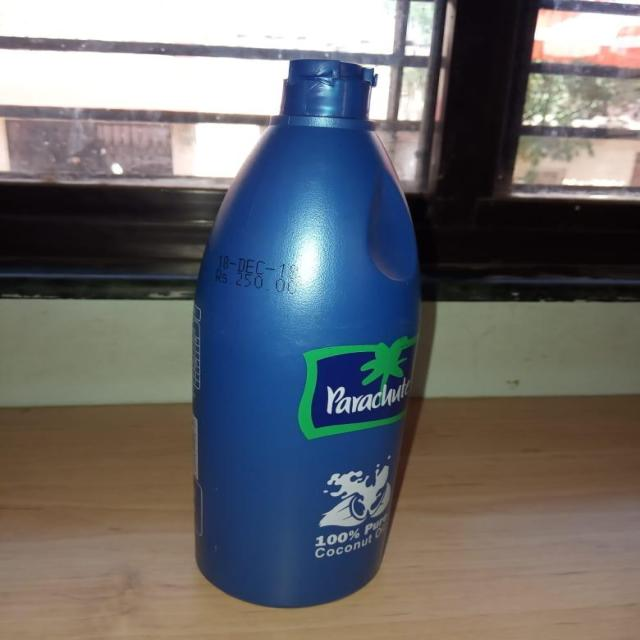parachute_oil: (183, 48, 429, 614)
